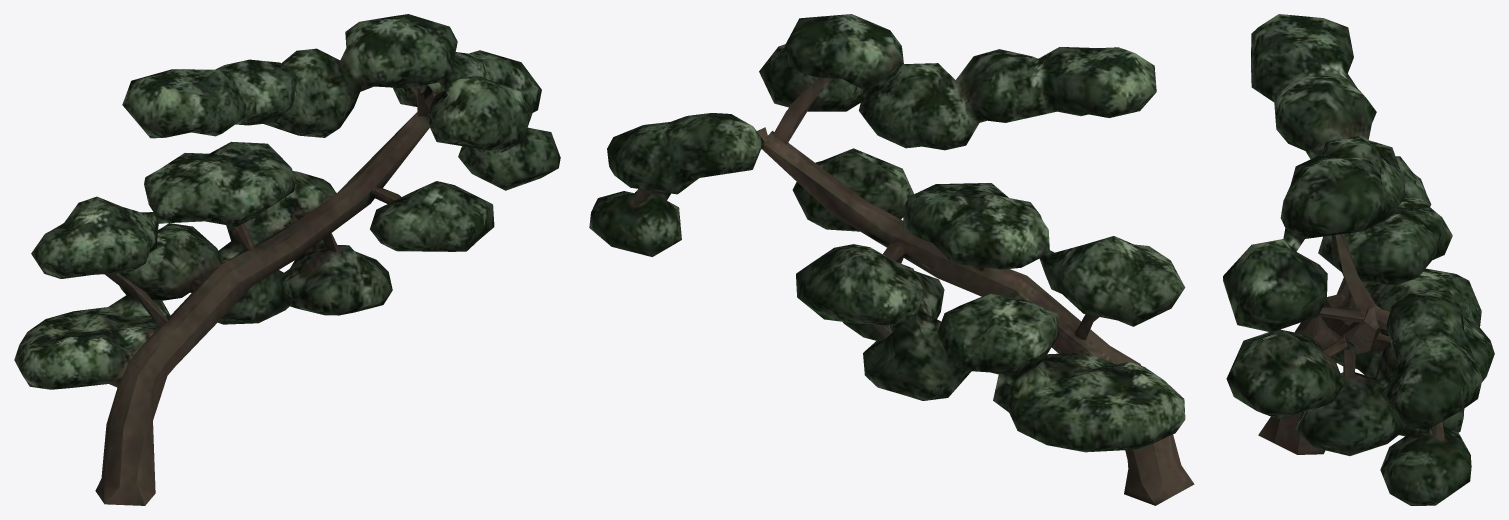
Rendered from pine_b_far.glb.
The picture shows the model from 3 angles, left to right: view 1: azimuth 30°, elevation 25°; view 2: azimuth 150°, elevation 25°; view 3: azimuth 270°, elevation 25°; orthographic projection. The views are drawn at different scales.
Parts seen in each view (by area): view 1: pine_b_lod1; view 2: pine_b_lod1; view 3: pine_b_lod1.
Boxes of the visible parts, x1,y1,x2,y2 form: pine_b_lod1: (14,14,560,505); pine_b_lod1: (589,14,1194,505); pine_b_lod1: (1223,14,1494,505).
Bounding box in the file's own units: 4.32 × 3.05 × 1.69.
Materials: 1 (1 with a texture image).
